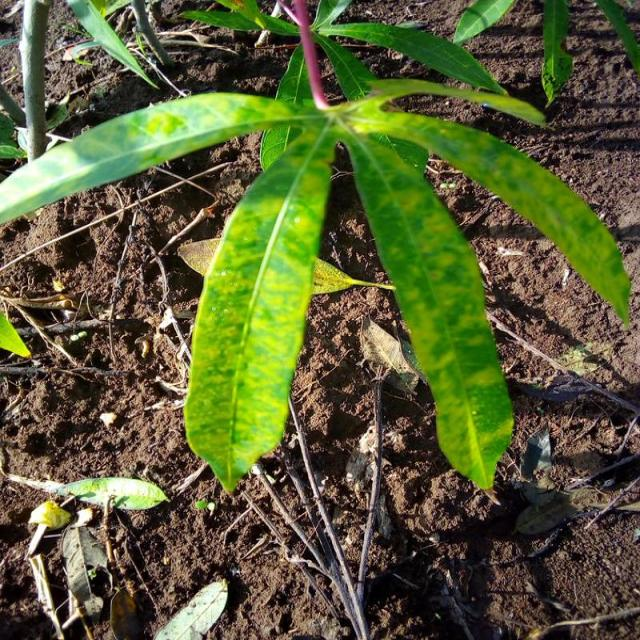cassava leaf: (1, 8, 631, 497), (338, 115, 516, 490), (182, 101, 336, 493)
